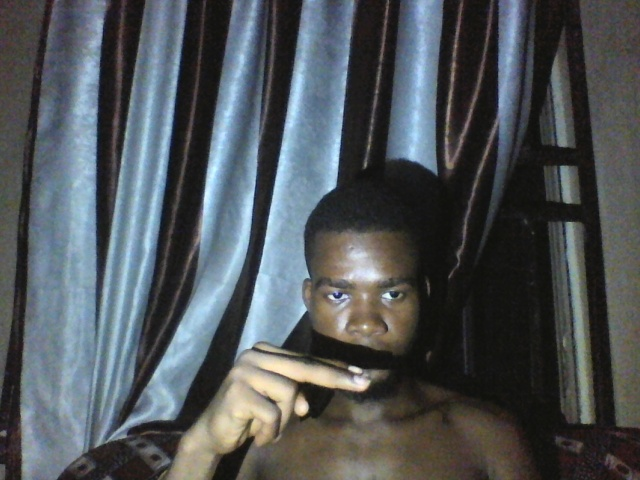no: (211, 340, 377, 448)
